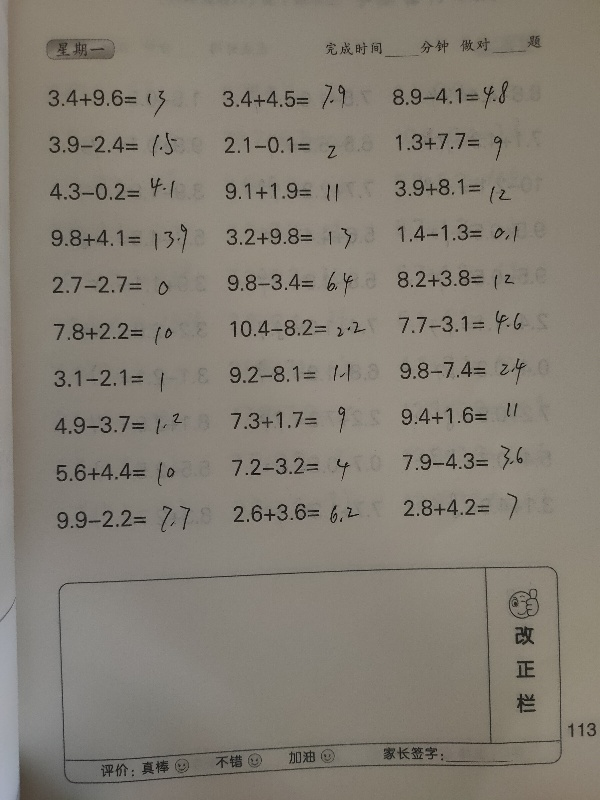equation: (43, 499, 201, 541), (395, 349, 536, 393), (393, 260, 537, 303), (395, 441, 535, 483), (36, 81, 180, 121), (392, 399, 531, 440), (49, 459, 196, 496), (39, 128, 191, 163), (48, 221, 192, 257), (231, 496, 376, 531), (388, 308, 541, 341), (216, 223, 363, 257), (43, 176, 185, 208), (388, 80, 513, 115), (393, 491, 529, 523), (228, 403, 350, 437), (223, 449, 361, 479), (220, 81, 349, 113), (221, 268, 364, 296), (51, 411, 185, 439), (392, 127, 505, 159), (391, 175, 515, 204), (227, 315, 370, 340), (50, 318, 175, 346), (50, 364, 167, 393), (48, 271, 172, 298), (394, 220, 521, 246), (220, 132, 341, 159), (221, 178, 341, 204), (225, 361, 353, 385)
